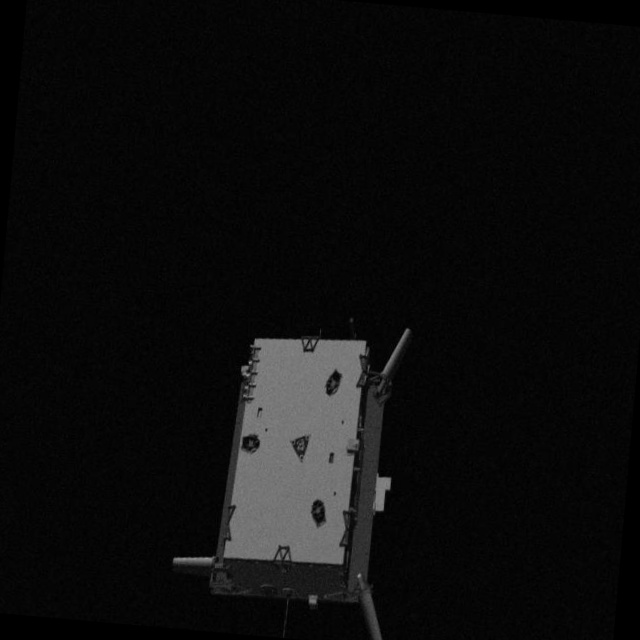medium_debris: (161, 304, 428, 640)
